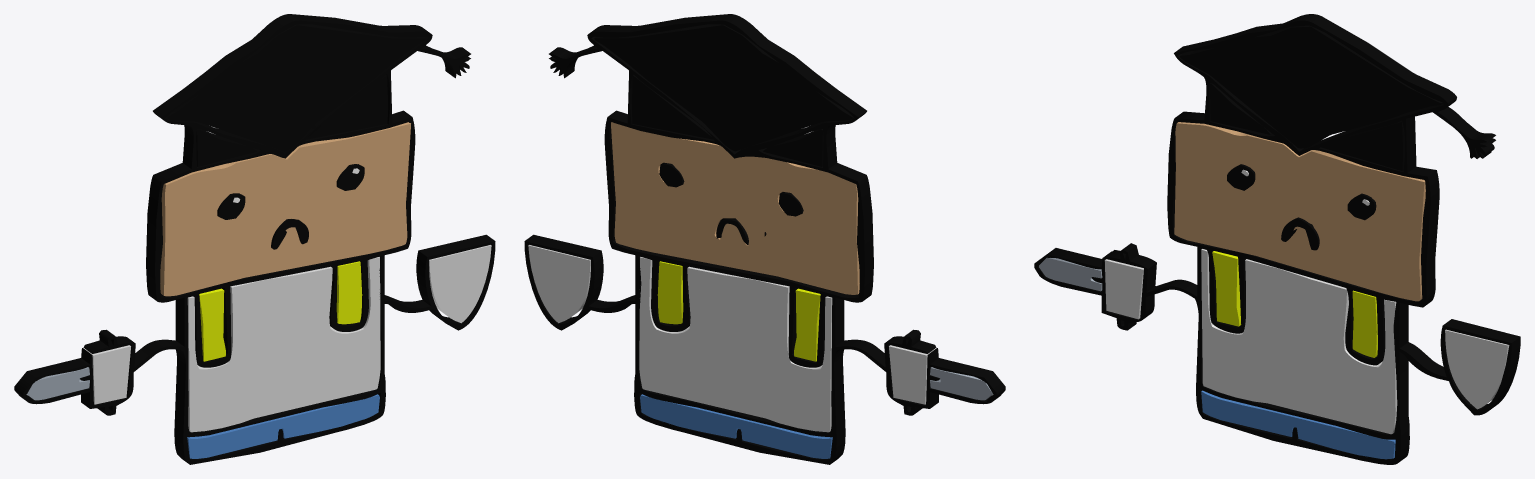
Rendered from postgrad.fbx.
3 views of the same model, side by side, from view 1: azimuth 30°, elevation 25°; view 2: azimuth 150°, elevation 25°; view 3: azimuth 330°, elevation 25° (orthographic).
Parts seen in each view (by area): view 1: Don_t_Change, Change; view 2: Don_t_Change, Change; view 3: Don_t_Change, Change.
Part boxes in pixels (bbox=[...]): Don_t_Change: bbox=[14, 14, 495, 464]; Change: bbox=[85, 245, 491, 432]; Don_t_Change: bbox=[524, 14, 1005, 464]; Change: bbox=[528, 245, 934, 432]; Don_t_Change: bbox=[1034, 14, 1520, 464]; Change: bbox=[1104, 249, 1509, 434].
Size of the model in its own units: 609 by 522 by 25.49.
